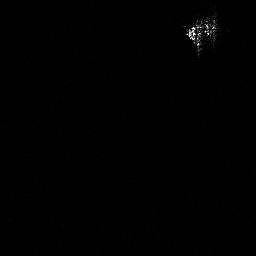ship: (186, 18, 216, 46)
